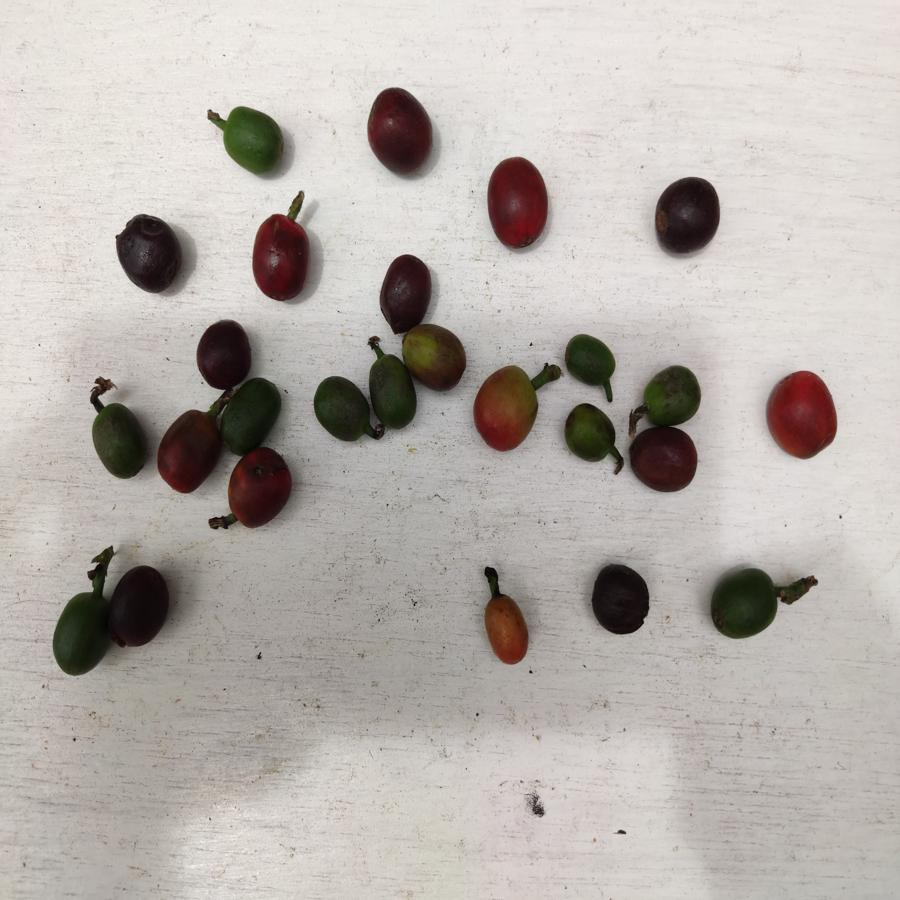Inmaduro: (708, 563, 781, 641), (89, 396, 150, 481), (50, 589, 111, 674), (217, 105, 286, 173), (311, 376, 375, 443), (225, 379, 282, 450), (370, 352, 417, 432), (642, 362, 700, 424), (559, 403, 615, 465), (558, 333, 618, 386)
Maduro: (762, 367, 842, 460), (484, 154, 549, 251), (248, 212, 314, 300)
Pinton: (472, 365, 541, 451), (401, 325, 470, 388), (480, 591, 529, 669)
Sobremaduro: (361, 86, 435, 170), (651, 177, 720, 254), (153, 415, 220, 491), (115, 212, 181, 289), (228, 452, 293, 527), (110, 565, 169, 647), (587, 562, 653, 635), (629, 426, 698, 491), (378, 252, 434, 328), (194, 318, 250, 385)
